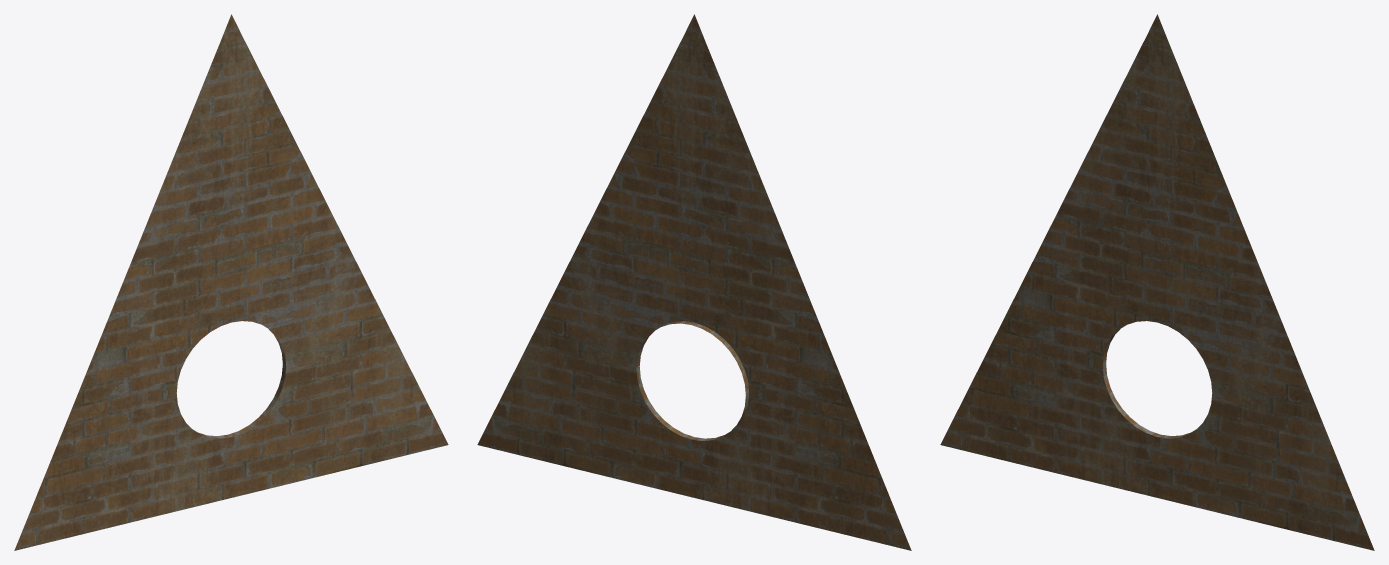
The model's file is SP_House10_Roof03.fbx.
The picture shows the model from 3 angles, left to right: view 1: azimuth 30°, elevation 25°; view 2: azimuth 150°, elevation 25°; view 3: azimuth 330°, elevation 25°; orthographic projection.
Parts seen in each view (by area): view 1: SP_House10_Roof03; view 2: SP_House10_Roof03; view 3: SP_House10_Roof03.
Part boxes in pixels (left/top/right/bottom): SP_House10_Roof03: left=14, top=14, right=448, bottom=550; SP_House10_Roof03: left=477, top=14, right=911, bottom=550; SP_House10_Roof03: left=940, top=14, right=1374, bottom=550.
Bounding box in the file's own units: 9.53 × 10.15 × 0.1274.
